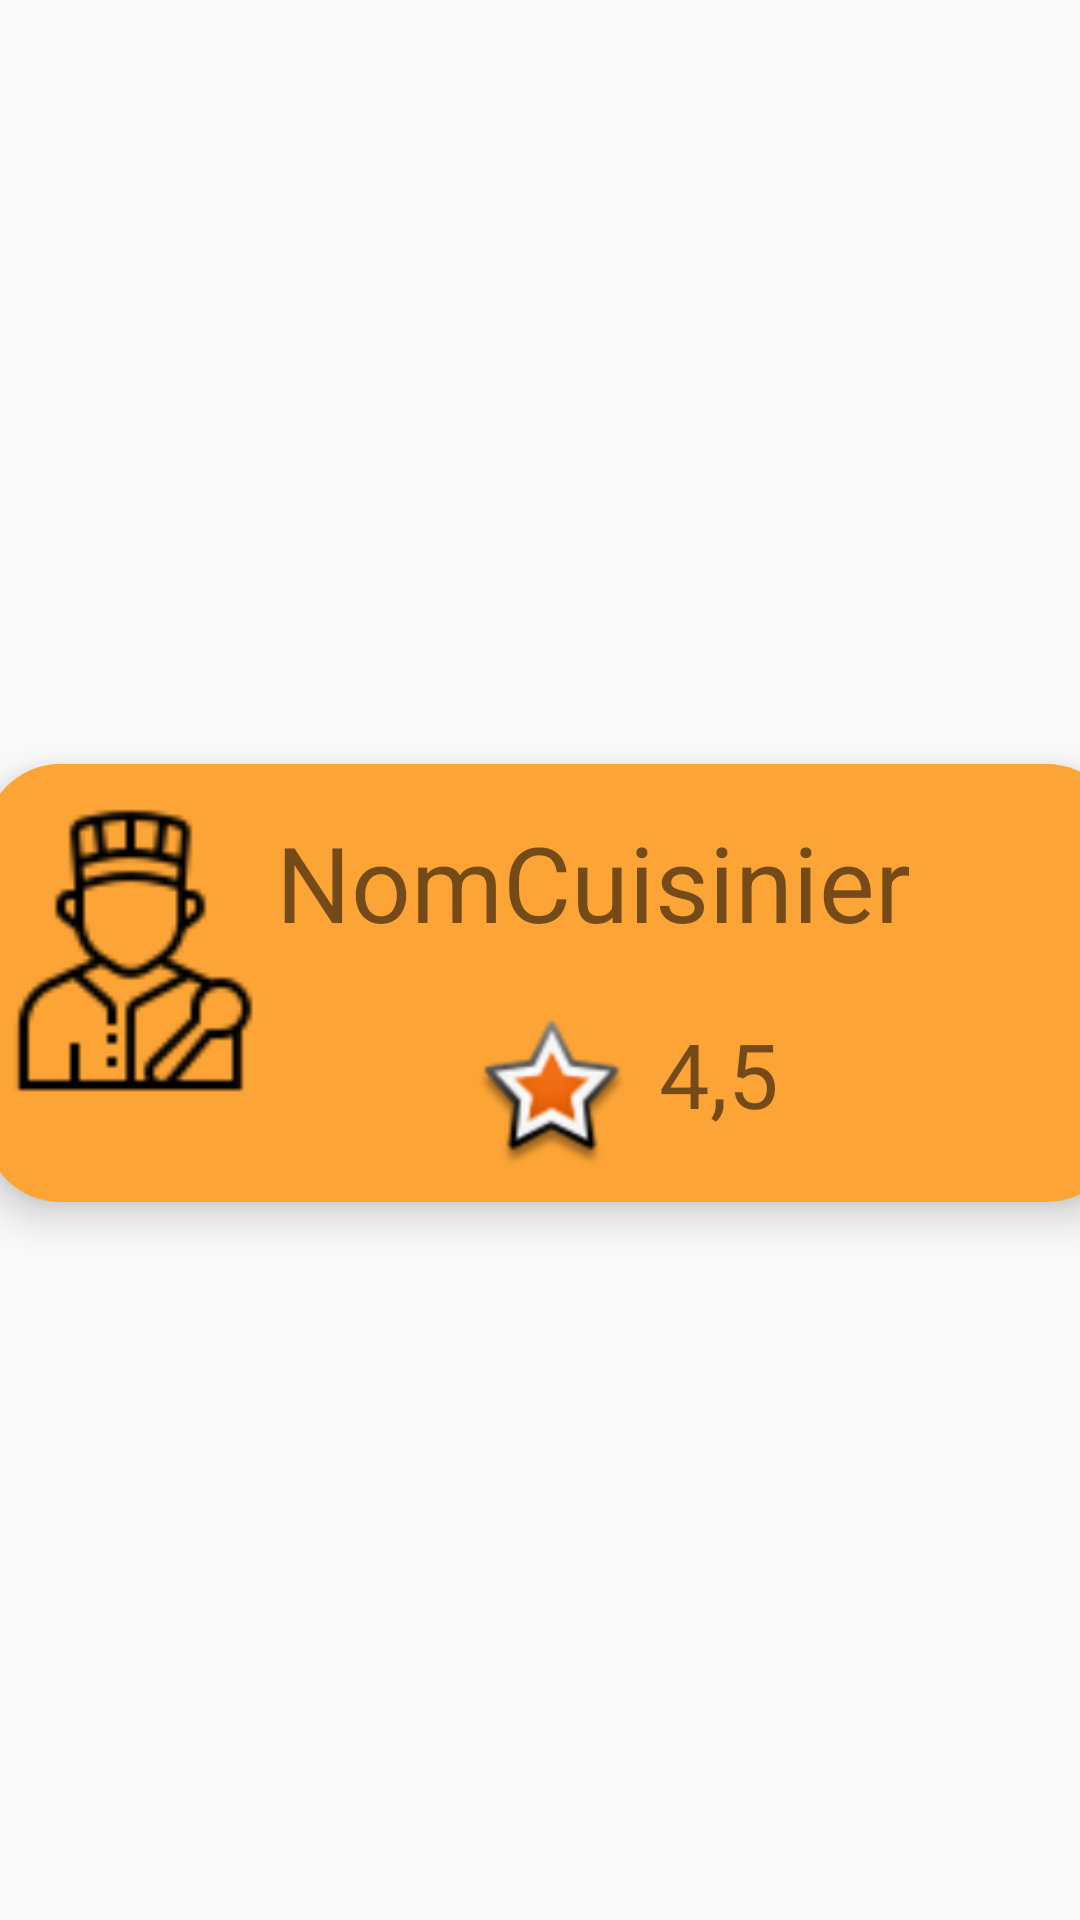

Icon bounding boxes for this 1080px×1920px phone screenshot, format (x1, y1, x2, y2):
star on: (484, 1021, 620, 1160)
